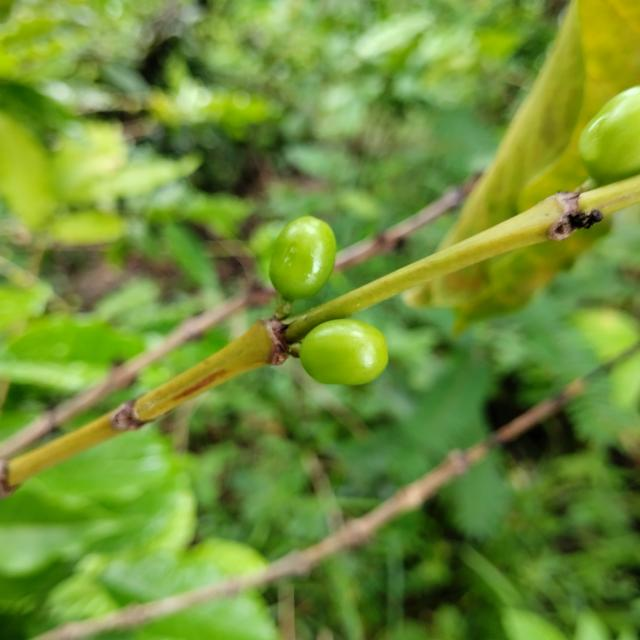green: (580, 85, 640, 184), (299, 319, 388, 385), (269, 216, 336, 301)
